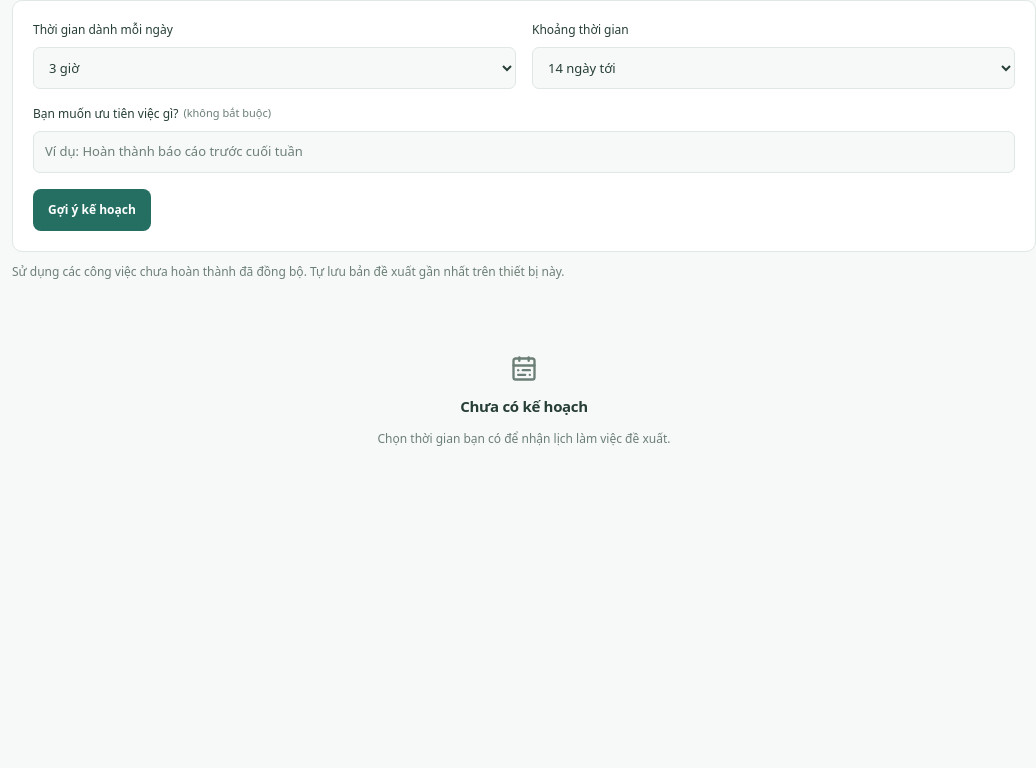
Test: PlanningAssistant › hiển thị trạng thái không có công việc đang mở
The image size is (1036, 768).
Click the button "Gợi ý kế hoạch". click: (92, 210)
box: [33,189,151,231]
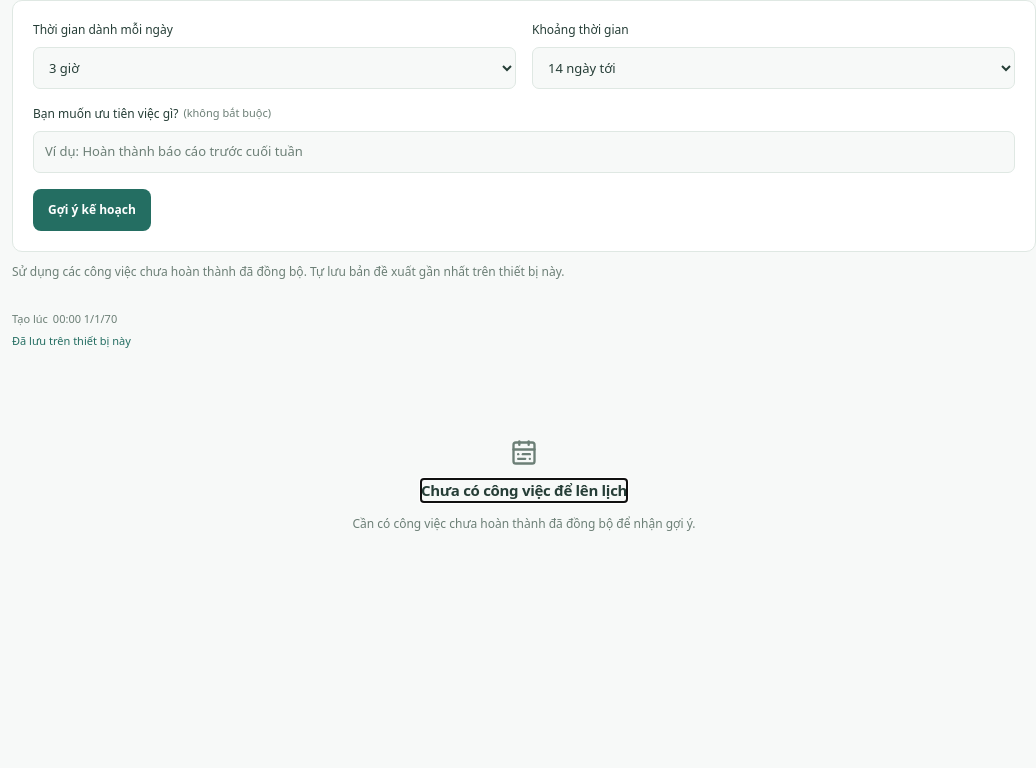
Now the heading "Chưa có công việc để lên lịch" is shown, box [421,479,627,502]
